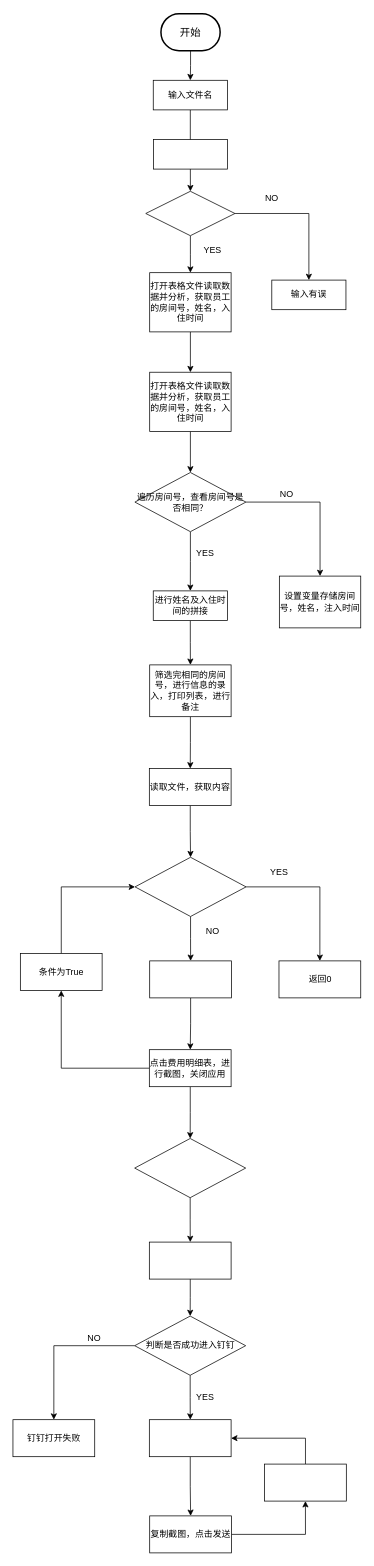
Image size: 374x1566. Some labels were removed from this diagram. Each missing label, with the box of its shape:
创建表格: (153, 139, 228, 169)
判断是否为中途入住？: (134, 857, 246, 916)
循环遍历同房间号的人数: (264, 1463, 346, 1501)
截图成功？: (134, 1138, 246, 1198)
打开应用，进行窗口最大化: (149, 1241, 231, 1279)
打开文件，最大化应用窗口: (149, 960, 231, 998)
文件名是否存在？: (145, 191, 235, 236)
点击搜索相关员工姓名: (149, 1419, 231, 1457)
